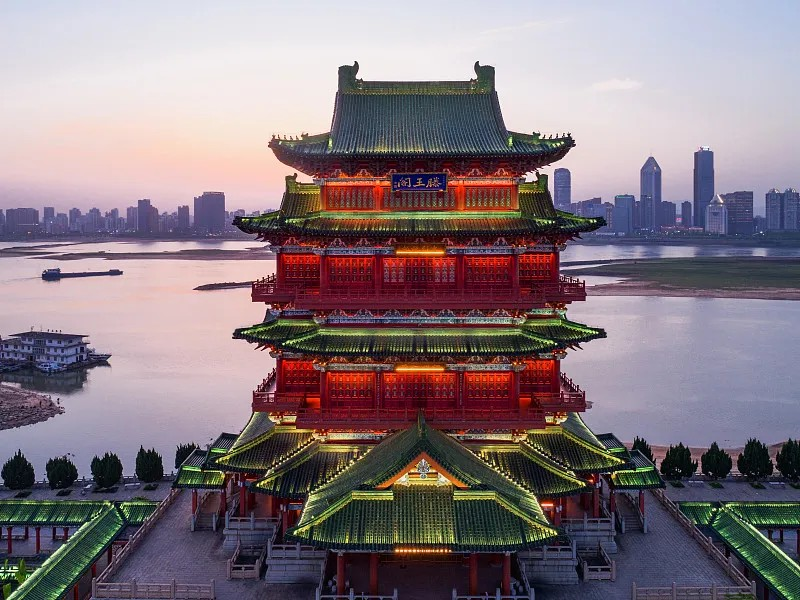Teng: (171, 61, 665, 589)
